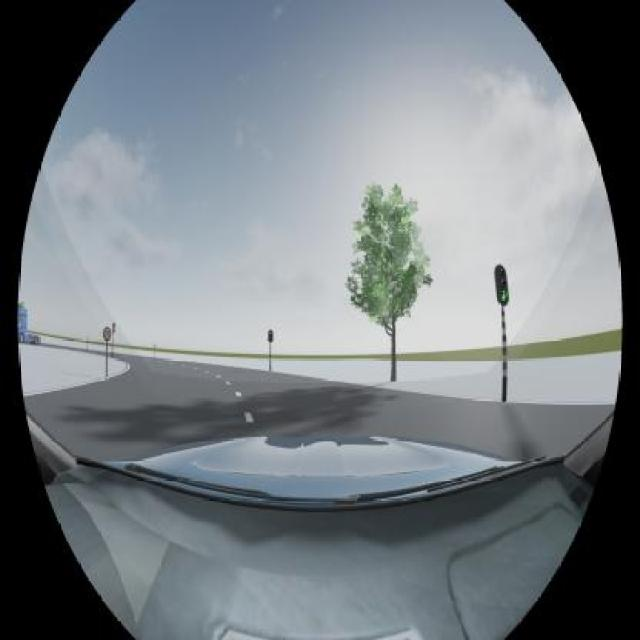forb_speed_over_70: (103, 328, 111, 340)
